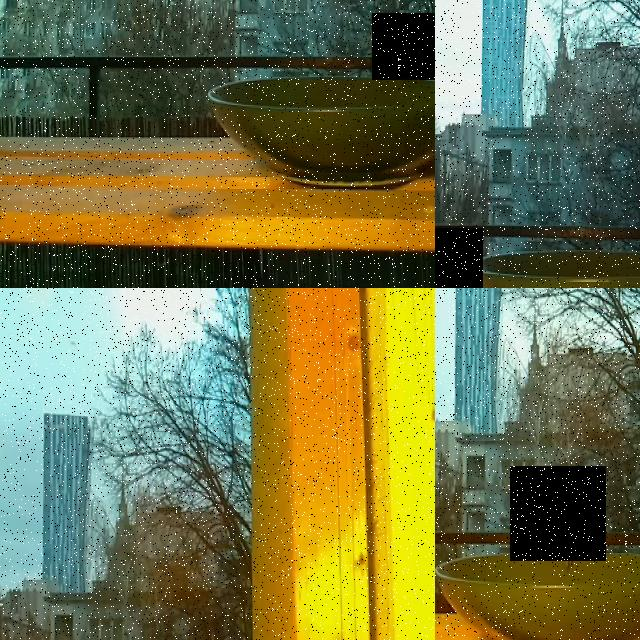Bogatka: (510, 466, 606, 561)
Modraszka: (372, 13, 435, 79), (435, 228, 483, 288)
